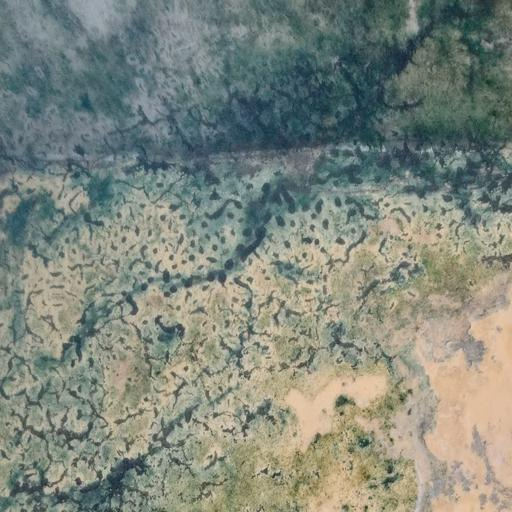algae: (2, 3, 504, 497)
